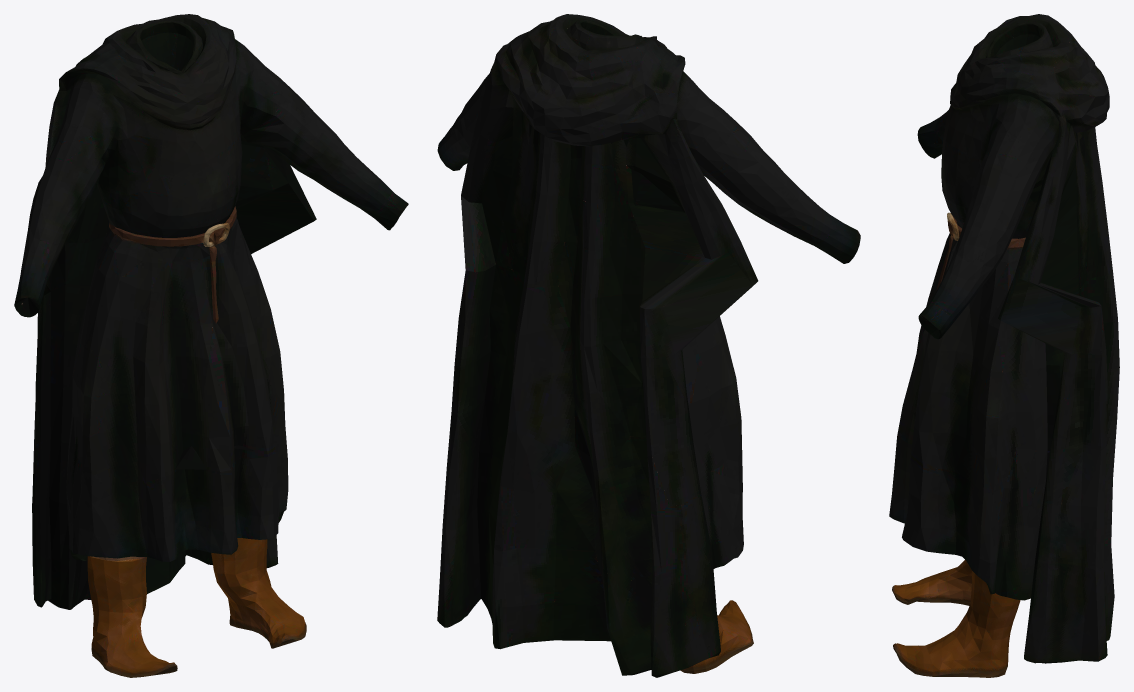
File: ewm_t2wizard_outfit.glb
The picture shows the model from 3 angles, left to right: view 1: azimuth 30°, elevation 25°; view 2: azimuth 150°, elevation 25°; view 3: azimuth 270°, elevation 25°; orthographic projection. The views are drawn at different scales.
Visible parts, largest first — view 1: ewm_t2wizard_outfit; view 2: ewm_t2wizard_outfit; view 3: ewm_t2wizard_outfit.
Boxes of the visible parts, box(x1,y1,x2,y2) form: ewm_t2wizard_outfit: box(14, 14, 408, 677); ewm_t2wizard_outfit: box(437, 14, 860, 677); ewm_t2wizard_outfit: box(889, 14, 1119, 677).
Size of the model in its own units: 1.14 by 1.65 by 0.5693.
Materials: 1 (1 with a texture image).
